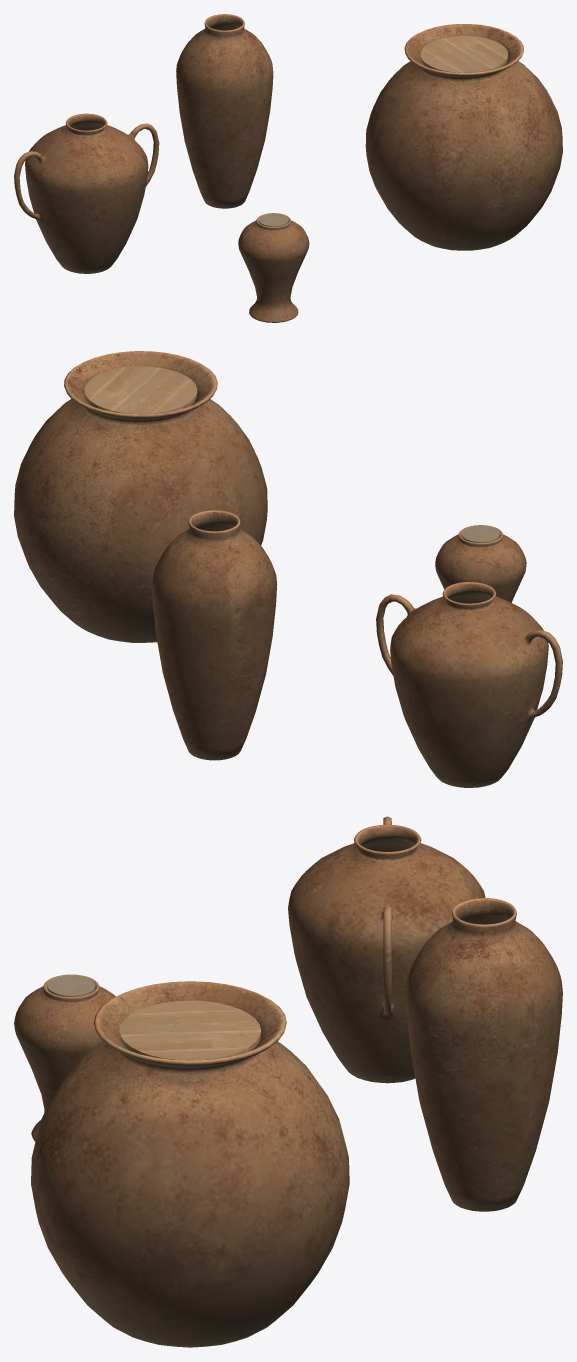
Rendered from pots.glb.
3 views of the same model, one above another, from view 1: azimuth 30°, elevation 25°; view 2: azimuth 150°, elevation 25°; view 3: azimuth 270°, elevation 25° (orthographic). The views are drawn at different scales.
Parts seen in each view (by area): view 1: Pot_SkinnyTall_Pottery_0; view 2: Pot_SkinnyTall_Pottery_0; view 3: Pot_SkinnyTall_Pottery_0.
Part boxes in pixels (left/top/right/bottom): Pot_SkinnyTall_Pottery_0: left=14, top=14, right=562, bottom=322; Pot_SkinnyTall_Pottery_0: left=14, top=351, right=562, bottom=787; Pot_SkinnyTall_Pottery_0: left=14, top=816, right=562, bottom=1347.
Size of the model in its own units: 184 by 67.65 by 115.
Materials: 1 (1 with a texture image).
